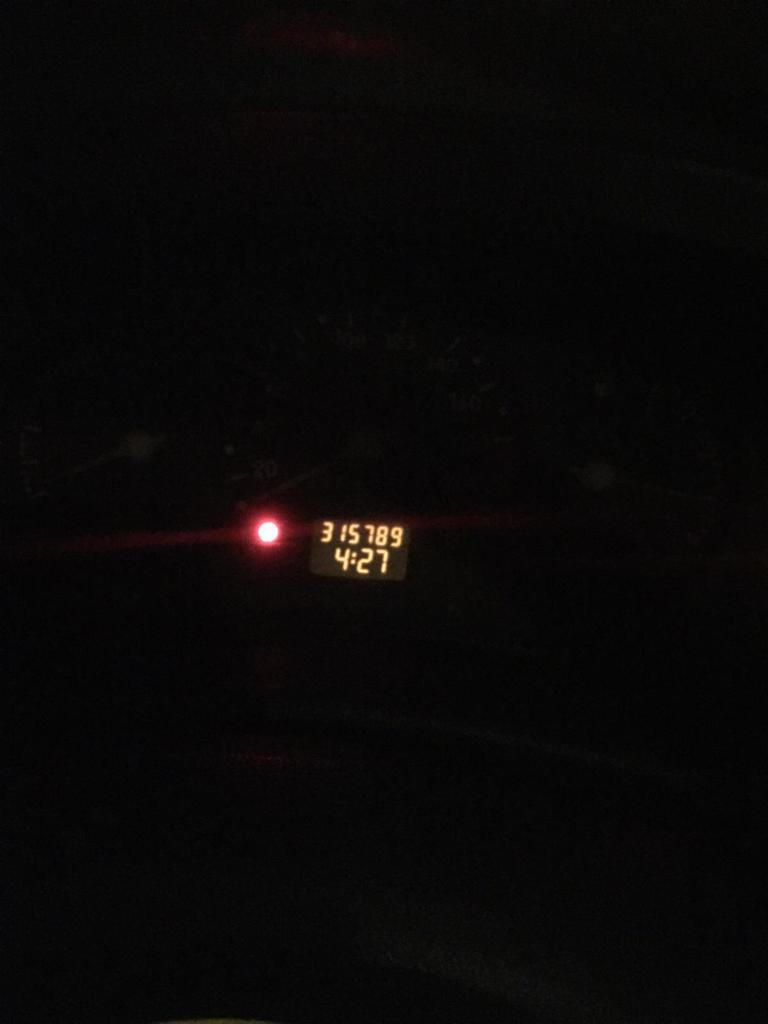1: (339, 523, 347, 542)
2: (356, 546, 374, 575)
3: (319, 520, 334, 542)
4: (334, 546, 350, 571)
5: (347, 523, 361, 545)
7: (375, 548, 389, 574), (363, 523, 375, 544)
8: (375, 525, 389, 545)
9: (389, 525, 403, 548)
X: (350, 551, 357, 565)
odometer: (305, 515, 413, 584)
